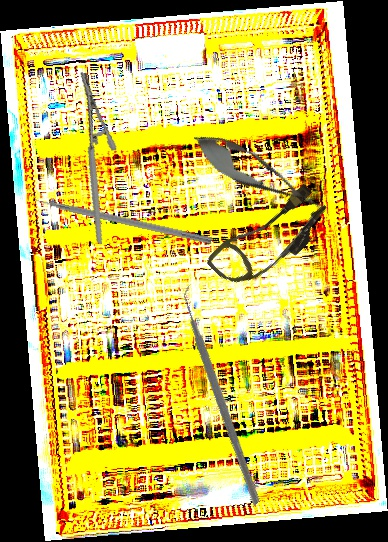Cannula: (204, 173, 336, 304)
Chopper: (106, 277, 344, 507), (24, 184, 215, 245)
Micro Scissor: (184, 122, 333, 226)
Needle Holder: (41, 71, 141, 245)
